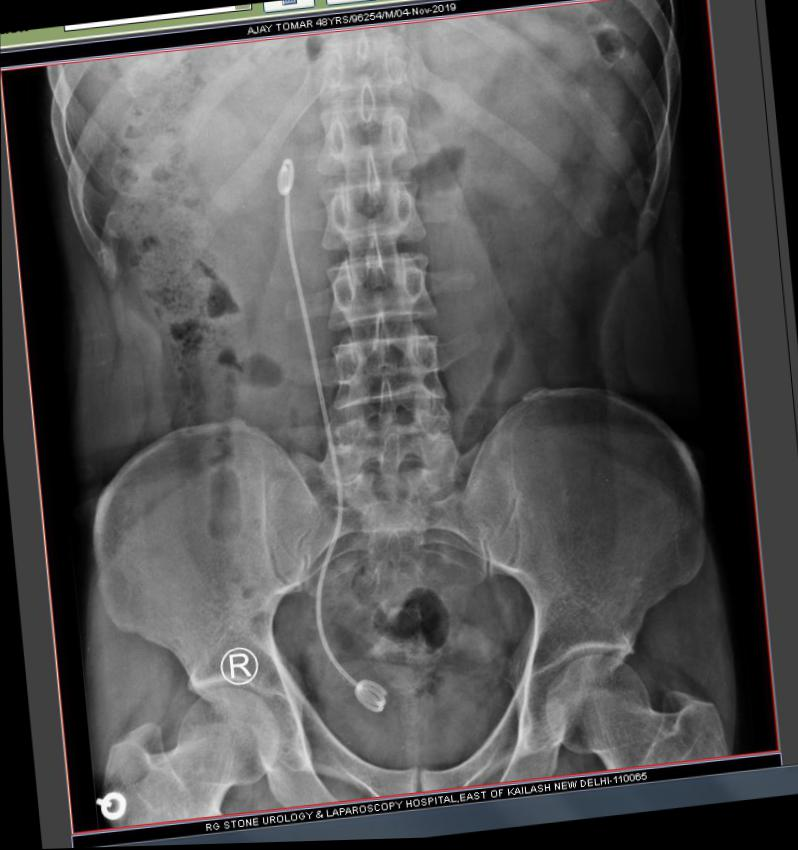bladder: (305, 631, 505, 788)
vertebrae: (308, 101, 420, 186)
